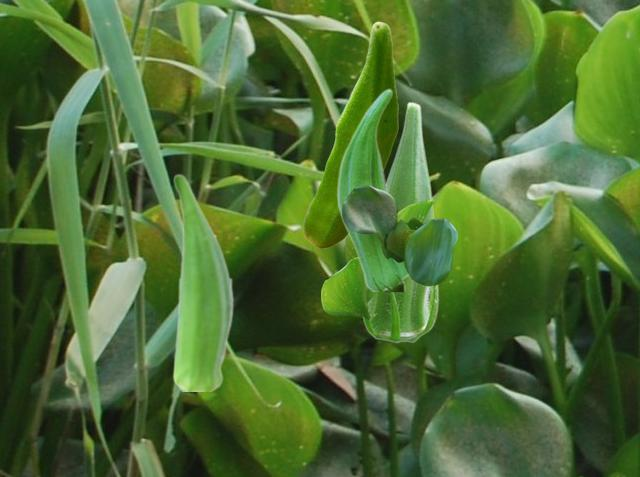okra: (303, 21, 397, 247), (362, 101, 438, 342), (336, 87, 408, 290), (172, 173, 233, 390)
